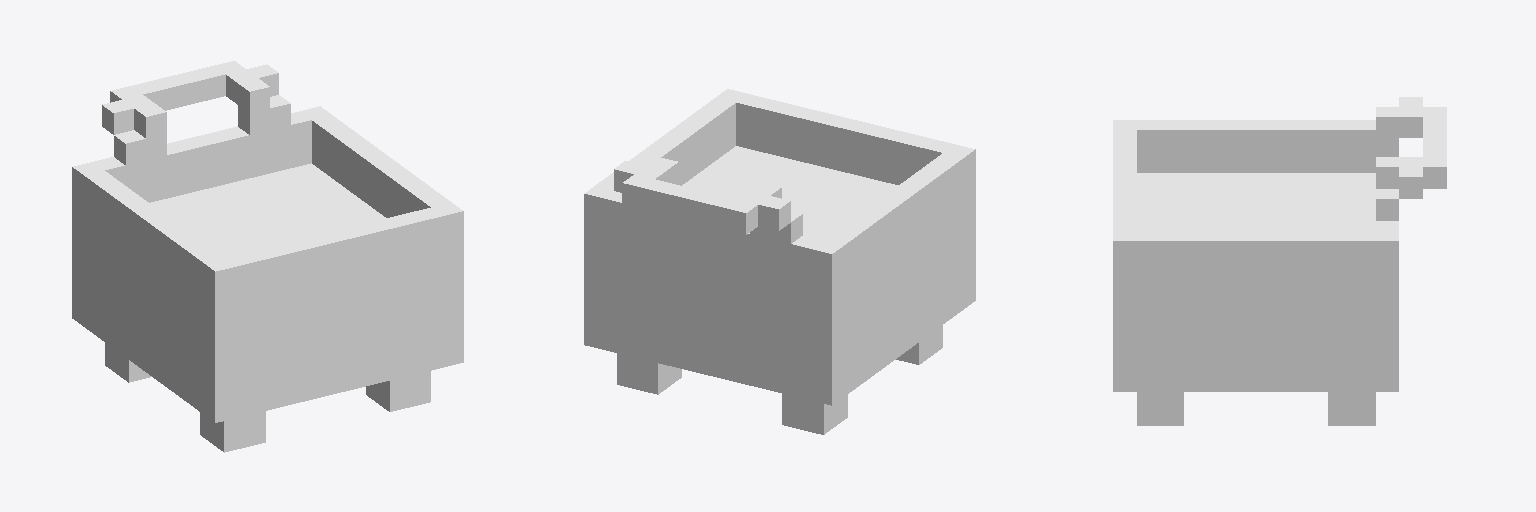
File: Minecart.obj
3 views of the same model, side by side, from view 1: azimuth 30°, elevation 25°; view 2: azimuth 150°, elevation 25°; view 3: azimuth 270°, elevation 25° (orthographic).
Bounding box in the file's own units: 12 × 11 × 14.